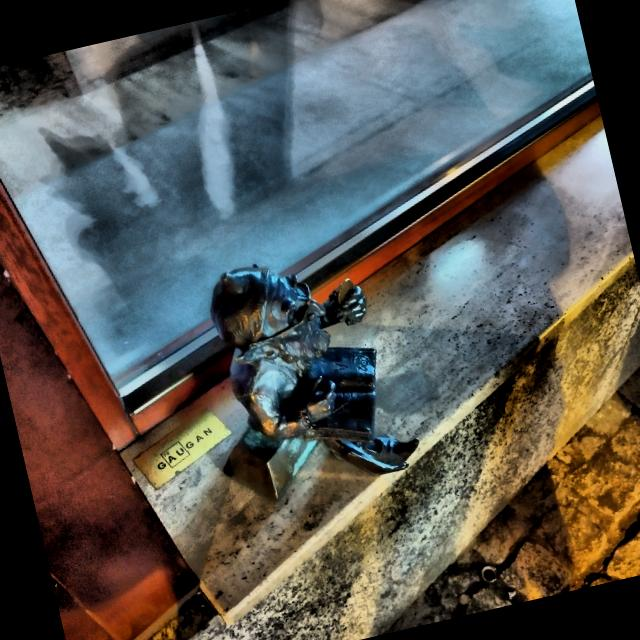Gaugan: (210, 265, 420, 500)
